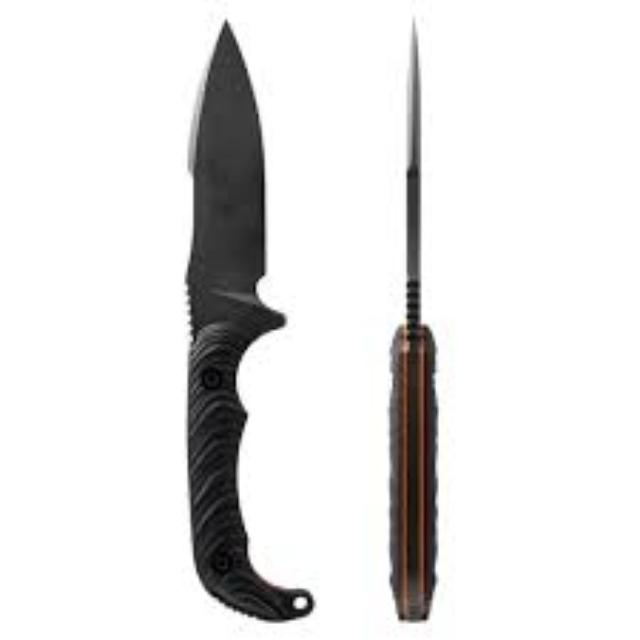Knife: (182, 14, 312, 620), (387, 8, 438, 620)
